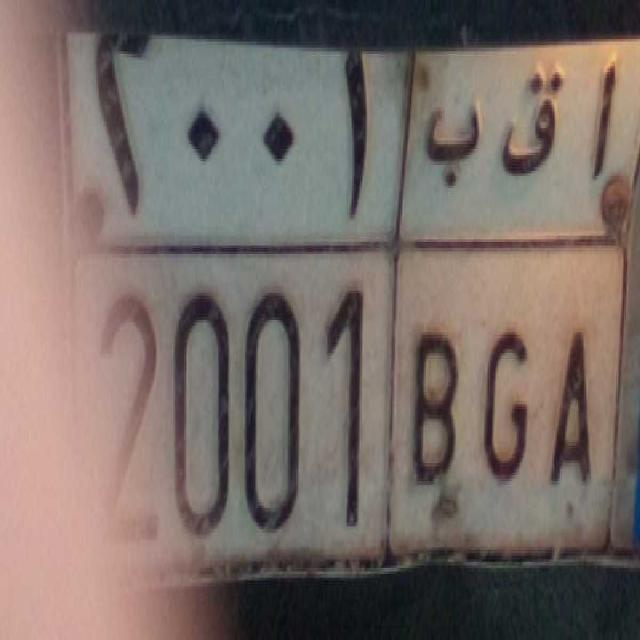license_plate: (79, 236, 613, 607)
